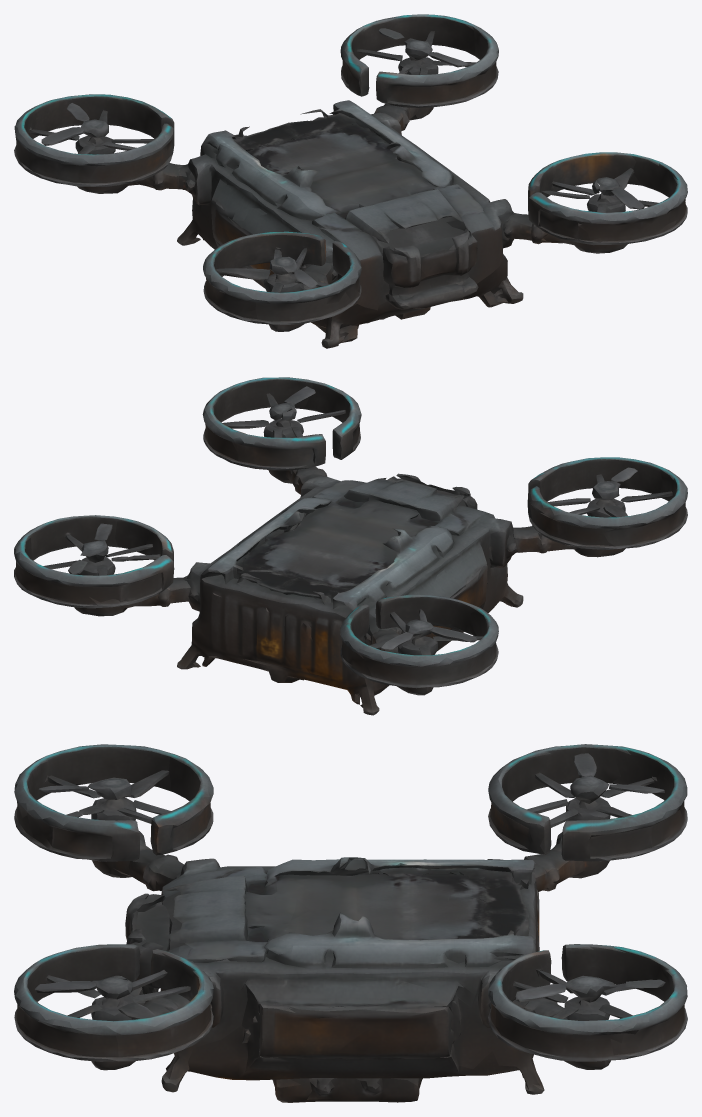
File: cargo-drone.glb
3 renders of one model, top to bottom at view 1: azimuth 30°, elevation 25°; view 2: azimuth 150°, elevation 25°; view 3: azimuth 270°, elevation 25°, orthographic. The views are drawn at different scales.
Visible parts, largest first — view 1: Body, Rotor_RL, Rotor_RR, Rotor_FR, Rotor_FL; view 2: Body, Rotor_RL, Rotor_RR, Rotor_FR, Rotor_FL; view 3: Body, Rotor_RR, Rotor_RL, Rotor_FR, Rotor_FL.
Boxes of the visible parts, <box> form: Body: <box>14,14,687,348</box>; Rotor_RL: <box>41,103,108,145</box>; Rotor_RR: <box>378,28,467,67</box>; Rotor_FR: <box>592,177,644,209</box>; Rotor_FL: <box>269,256,317,288</box>; Body: <box>14,377,687,715</box>; Rotor_RL: <box>381,619,476,649</box>; Rotor_RR: <box>68,523,112,574</box>; Rotor_FR: <box>269,386,315,420</box>; Rotor_FL: <box>592,467,637,500</box>; Body: <box>14,744,687,1102</box>; Rotor_RR: <box>515,975,665,1002</box>; Rotor_RL: <box>570,753,664,803</box>; Rotor_FR: <box>35,975,132,999</box>; Rotor_FL: <box>39,777,132,799</box>.
Bounding box in the file's own units: 2 × 0.6427 × 2.
Materials: 1 (1 with a texture image).
